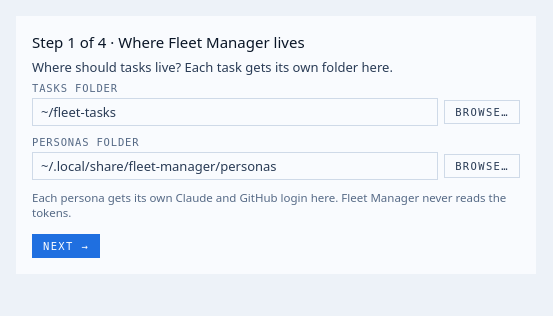
Test: First run and Requirements, as egui's › an_unwritable_root_shows_the_error_and_stays
Click the button "Next →" at (66,246), box top-left (32, 234), bottom-right (100, 258)
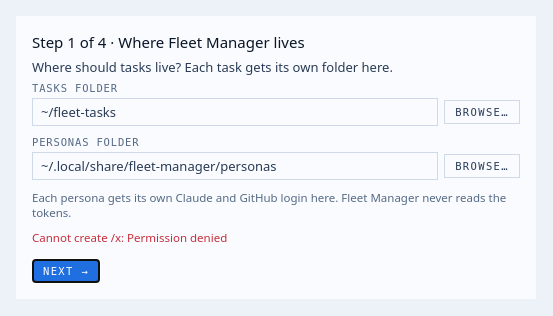
Expected: the heading "Step 1 of 4 · Where Fleet Manager lives" is shown, top-left (32, 32), bottom-right (305, 52)
Expected: the text "Cannot create /x: Permission denied" is shown, top-left (32, 230), bottom-right (227, 245)
